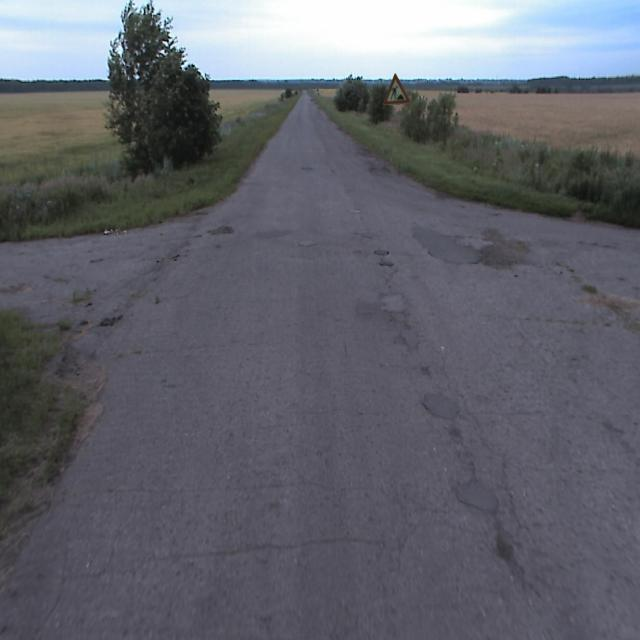road: (0, 91, 639, 639)
